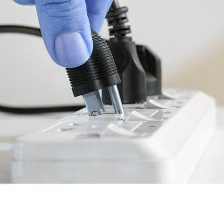three_eye_plug: (6, 82, 220, 193)
